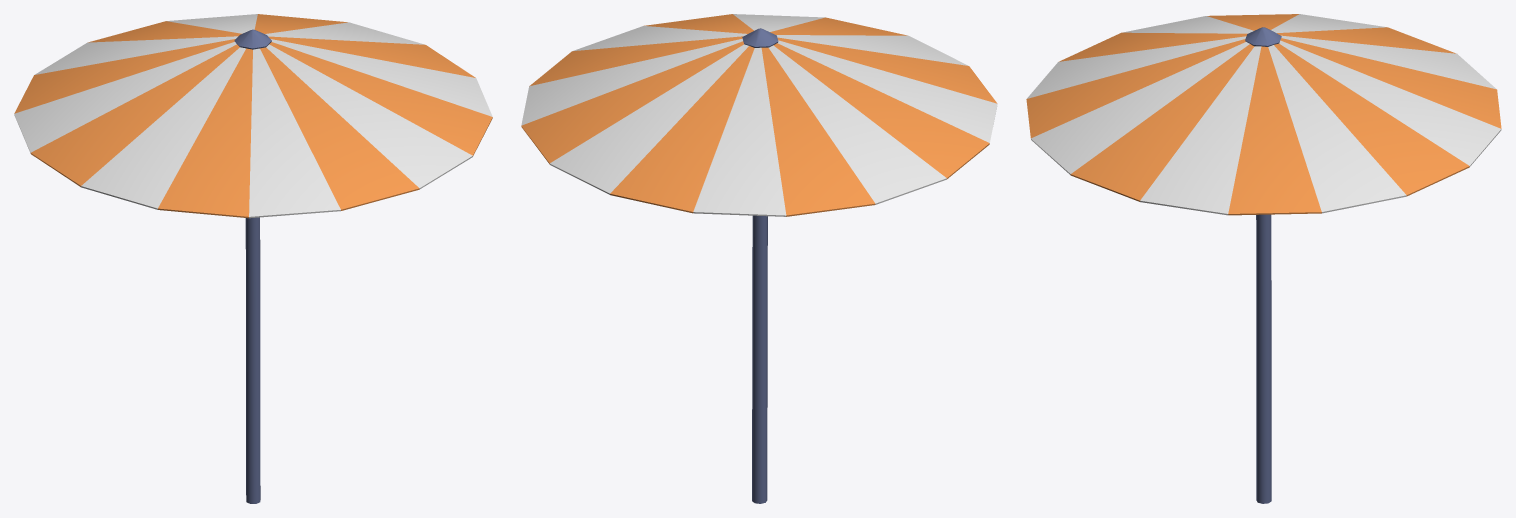
Rendered from BeachUmbrella_01.fbx.
3 views of the same model, side by side, from view 1: azimuth 30°, elevation 25°; view 2: azimuth 150°, elevation 25°; view 3: azimuth 270°, elevation 25° (orthographic).
Parts seen in each view (by area): view 1: BeachUmbrella_01; view 2: BeachUmbrella_01; view 3: BeachUmbrella_01.
Boxes of the visible parts, x1,y1,x2,y2 form: BeachUmbrella_01: (14,14,492,503); BeachUmbrella_01: (521,14,997,503); BeachUmbrella_01: (1026,14,1501,503).
Size of the model in its own units: 7.71 by 8.47 by 7.71.
